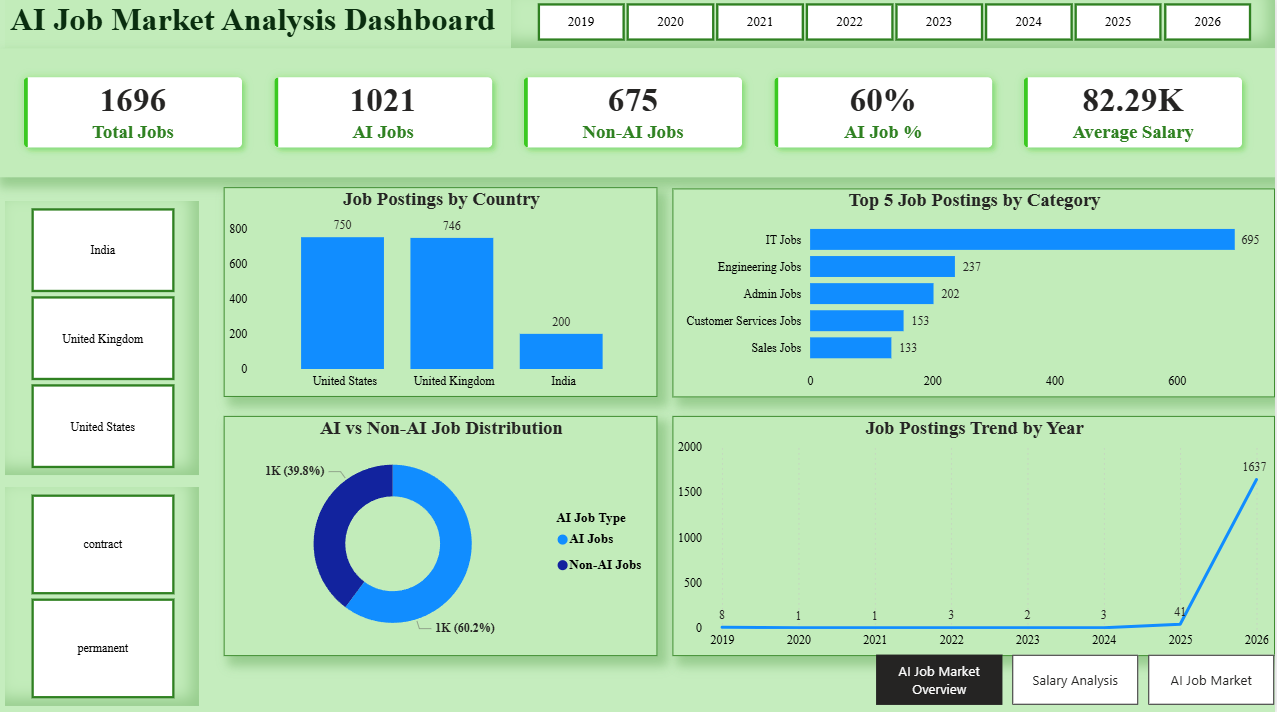

Layout of this report page (visuals, bound fields, positions):
{"tool":"powerbi","page":{"name":"AI Job Market Overview","canvas":[1280,720],"ordinal":0},"visuals":[{"type":"textbox","box":[9.6,0,516,52.1],"z":0},{"type":"cardVisual","fields":{"Data":["AI_Job_Market_Cleaned.Total Jobs","AI_Job_Market_Cleaned.AI Jobs","AI_Job_Market_Cleaned.Non-AI Jobs","AI_Job_Market_Cleaned.AI Job %","AI_Job_Market_Cleaned.Average Salary"]},"box":[0,52.1,1280.3,129],"z":1000},{"type":"clusteredColumnChart","title":"Job Postings by Country","fields":{"Category":["AI_Job_Market_Cleaned.country_name"],"Y":["AI_Job_Market_Cleaned.Total Jobs"]},"box":[229.2,190.7,433.6,209.9],"z":2000},{"type":"donutChart","title":"AI vs Non-AI Job Distribution","fields":{"Y":["AI_Job_Market_Cleaned.Total Jobs"],"Category":["AI_Job_Market_Cleaned.AI Job Type"]},"box":[229.2,419.9,433.6,240.1],"z":3000},{"type":"slicer","fields":{"Values":["AI_Job_Market_Cleaned.Year"]},"box":[516,0,764.3,52.1],"z":4000},{"type":"lineChart","title":"Job Postings Trend by Year ","fields":{"Y":["AI_Job_Market_Cleaned.Total Jobs"],"Category":["AI_Job_Market_Cleaned.Year"]},"box":[677.9,419.9,602.4,240.1],"z":5000},{"type":"barChart","title":"Top 5 Job Postings by Category","fields":{"Category":["AI_Job_Market_Cleaned.category"],"Y":["AI_Job_Market_Cleaned.Total Jobs"]},"box":[677.9,192.1,602.4,208.6],"z":6000},{"type":"slicer","fields":{"Values":["AI_Job_Market_Cleaned.country_name"]},"box":[9.6,204.5,193.5,274.4],"z":7000},{"type":"slicer","fields":{"Values":["AI_Job_Market_Cleaned.contract_type"]},"box":[9.6,491.3,193.5,218.2],"z":8000},{"type":"pageNavigator","box":[880.6,659.1,399.6,50.5],"z":9000}]}

Visuals, with their boxes in screenshot pixels (x1, y1, x2, y2), scaled from the page's 1280x720 canvas onto the 1277x712 screenshot:
textbox: pyautogui.locateOnScreen(10, 0, 524, 52)
cardVisual - AI_Job_Market_Cleaned.Total Jobs x AI_Job_Market_Cleaned.AI Jobs: pyautogui.locateOnScreen(0, 52, 1276, 179)
"Job Postings by Country" clusteredColumnChart: pyautogui.locateOnScreen(229, 189, 661, 396)
"AI vs Non-AI Job Distribution" donutChart: pyautogui.locateOnScreen(229, 415, 661, 653)
slicer - AI_Job_Market_Cleaned.Year: pyautogui.locateOnScreen(515, 0, 1276, 52)
"Job Postings Trend by Year " lineChart: pyautogui.locateOnScreen(676, 415, 1276, 653)
"Top 5 Job Postings by Category" barChart: pyautogui.locateOnScreen(676, 190, 1276, 396)
slicer - AI_Job_Market_Cleaned.country_name: pyautogui.locateOnScreen(10, 202, 203, 474)
slicer - AI_Job_Market_Cleaned.contract_type: pyautogui.locateOnScreen(10, 486, 203, 702)
pageNavigator: pyautogui.locateOnScreen(879, 652, 1276, 702)
